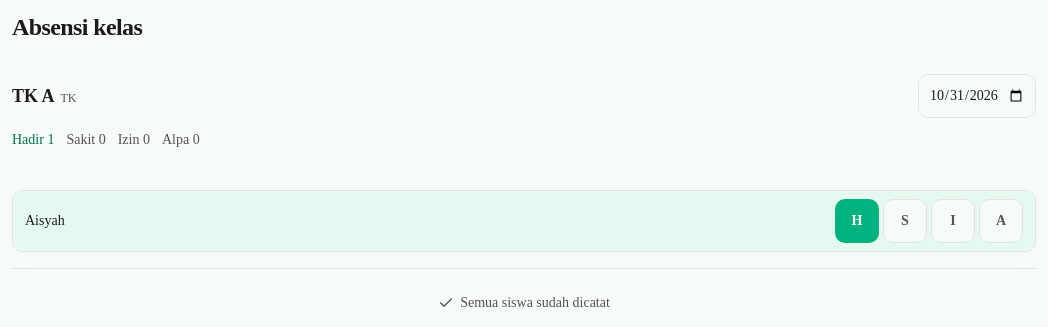
Scenario: ClassAttendancePage recovery › ignores an older failed save after a newer save succeeds for the same student
What coordinates should you click on to do the following:
click the radio button named "Alpa"
I would click on:
 (1001, 221)
Its box is [979,199,1023,243].
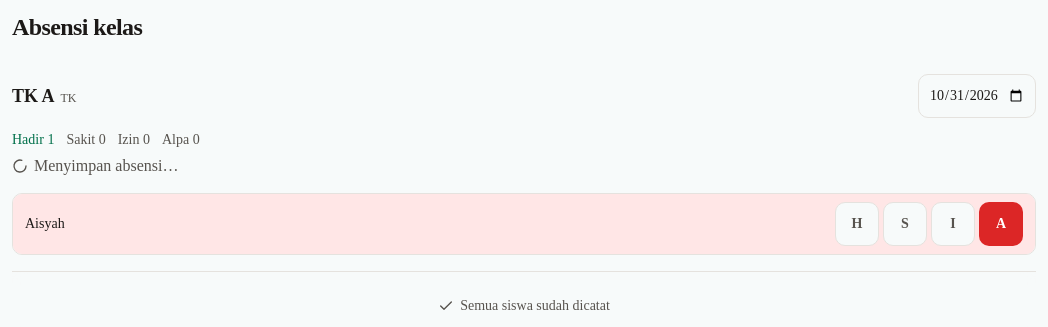
What coordinates should you click on to do the following:
click the radio button named "Sakit"
I would click on:
 (905, 224)
Its box is [883,202,927,246].
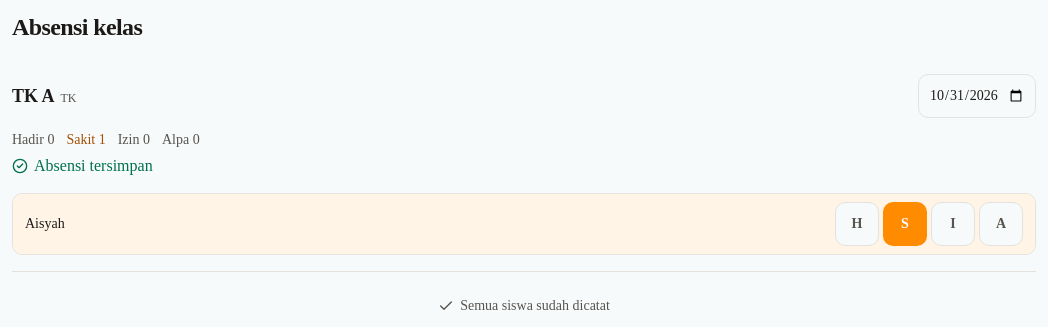
Result: the message reads "Absensi tersimpan" at [34,157,153,174]
